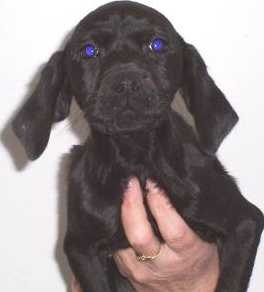Dog: (13, 1, 247, 279)
